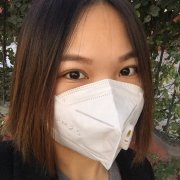face_mask: (49, 11, 147, 154)
